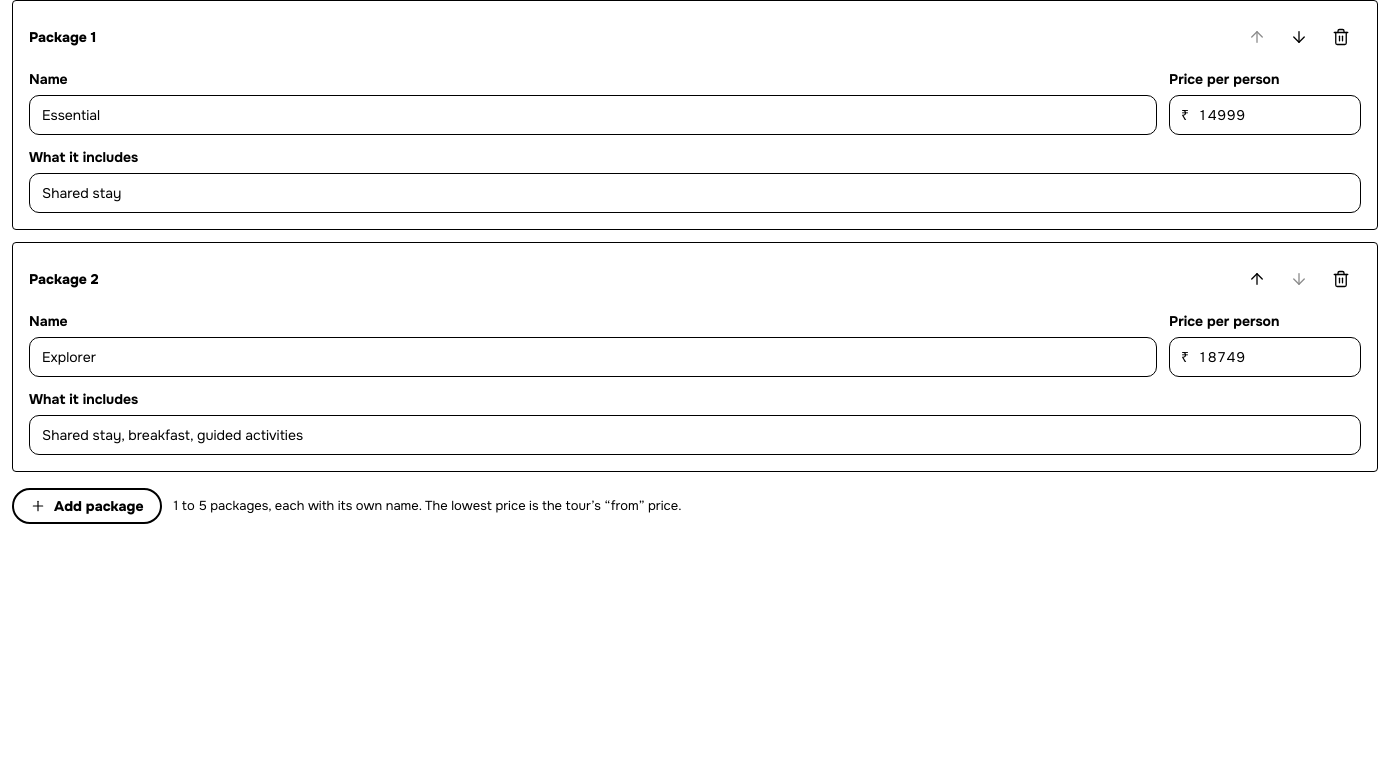
Test case: TierEditor › never removes the last package
The image size is (1378, 768).
What coordinates should you click on to do the following:
click the button named "Remove Package 1"
I would click on:
 (1341, 37)
Its box is [1321,17,1361,57].
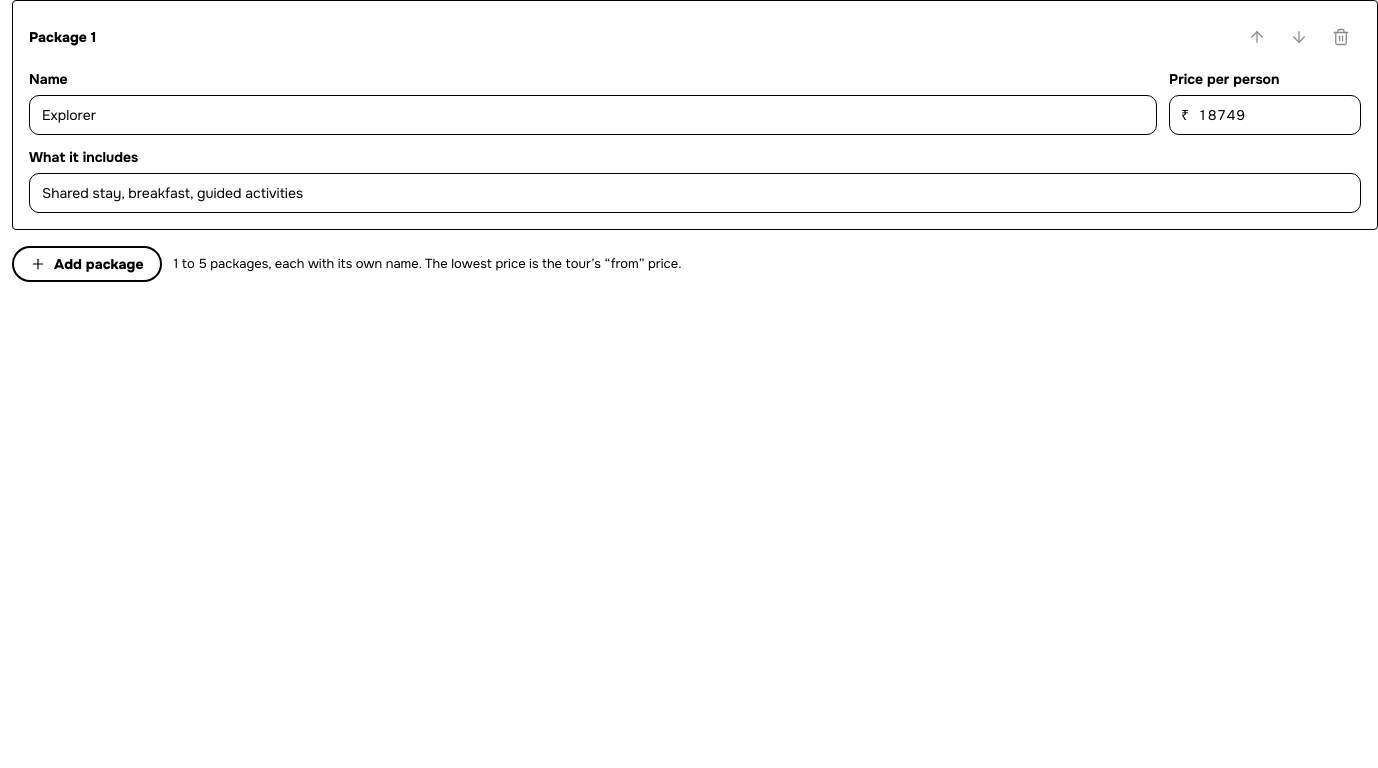
Expected: the button named "Remove Package 1" is disabled, [1321,17,1361,57]
